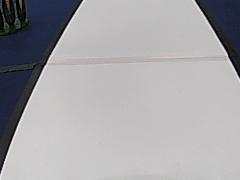corn: (0, 0, 30, 33)
